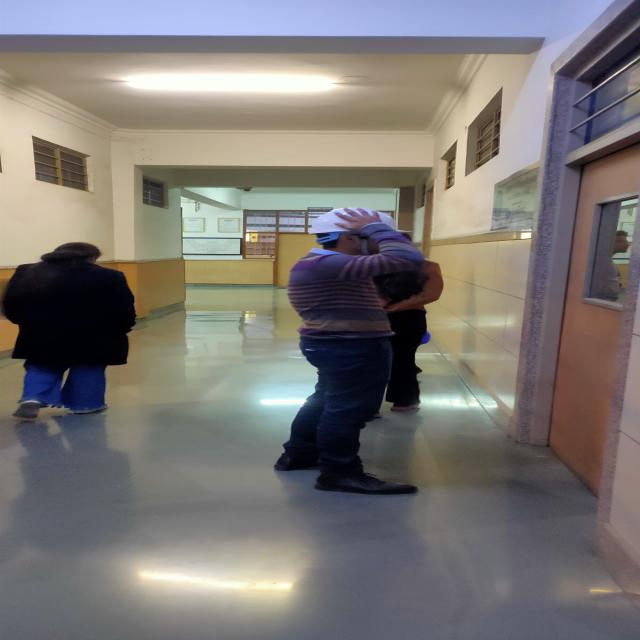no jacket: (273, 206, 428, 495)
unsafe: (0, 243, 140, 422)
